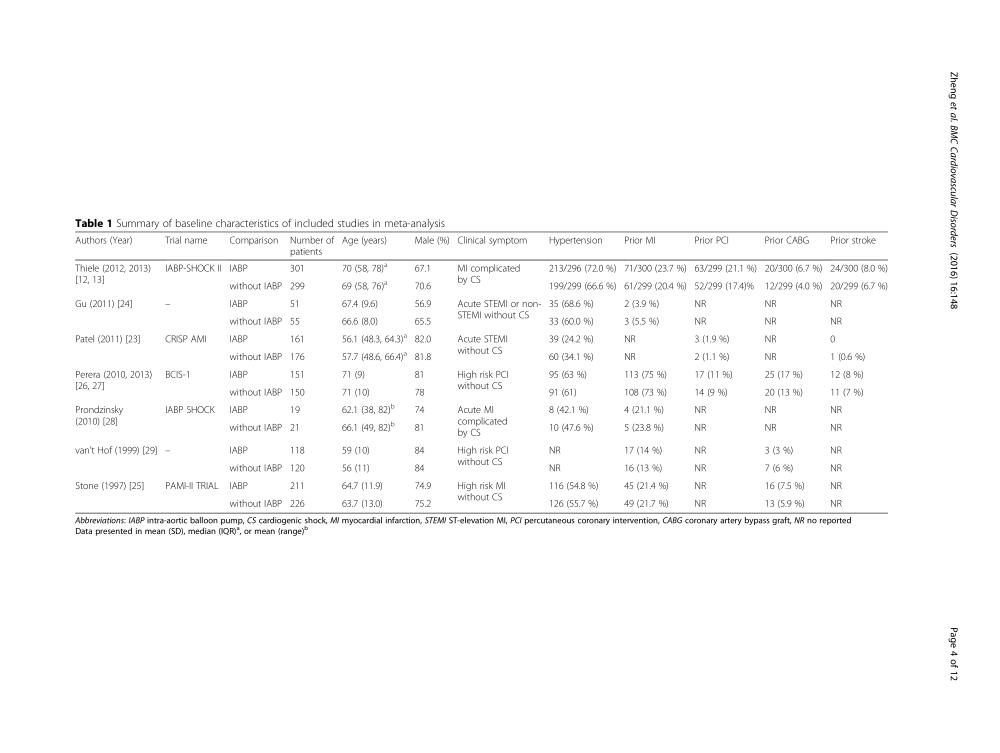table: (75, 234, 887, 508)
